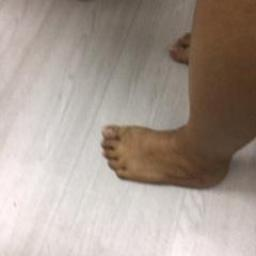Lateral View -Left Foot-: (94, 98, 241, 197)
